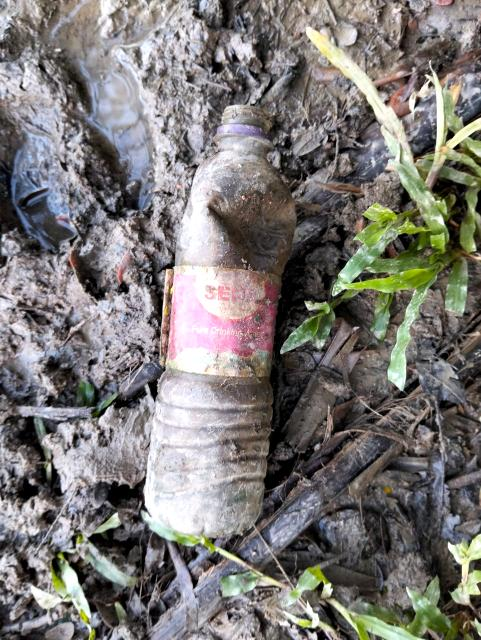bottle: (138, 107, 313, 538)
